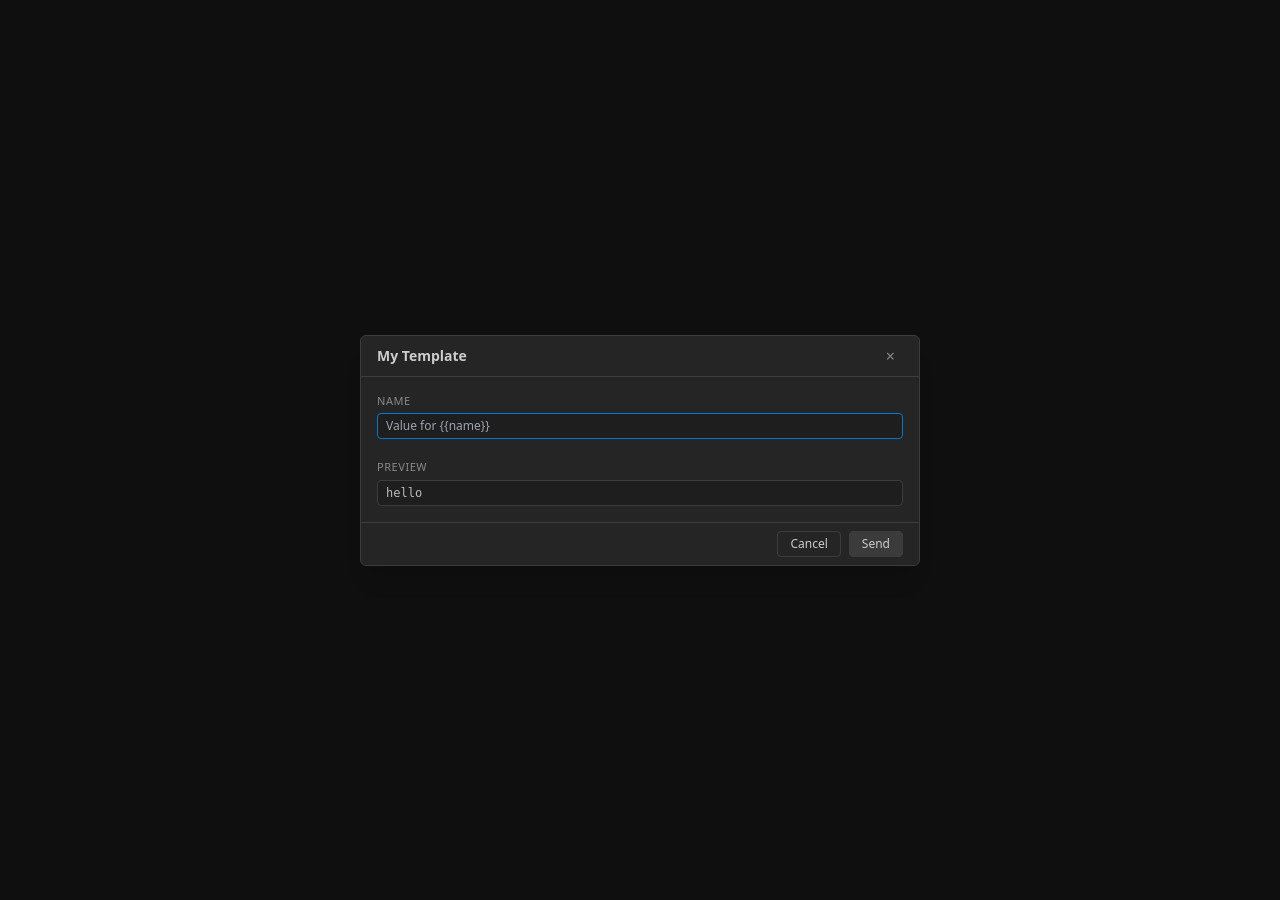
Test case: ShortcutTemplateDialog › updates the preview as the user types
Type "world" into the field with test id "template-input-name".
click(640, 426); type("world")  # box x1=377 y1=413 x2=903 y2=439
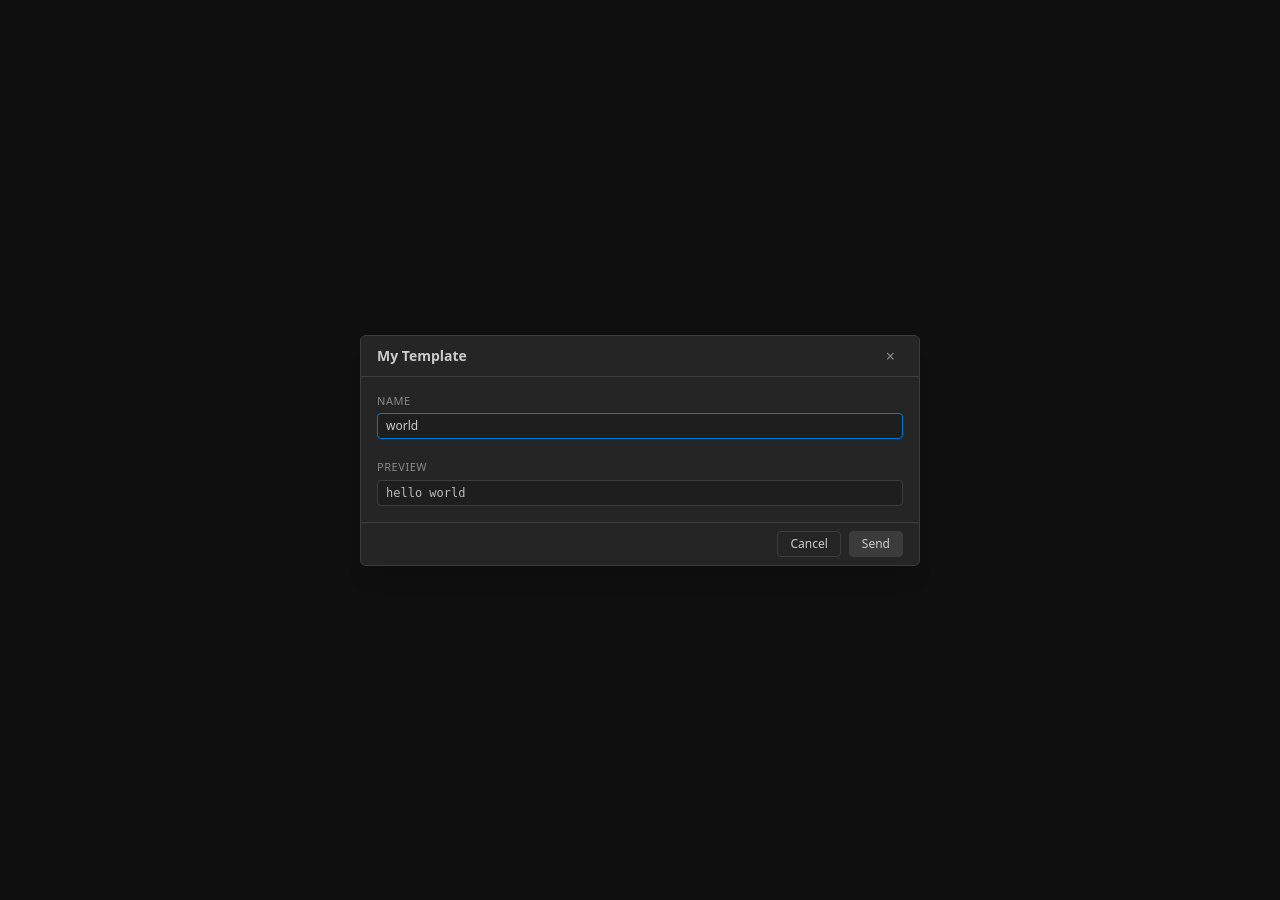
Result: the text with test id "template-preview" reads "hello world" at x1=386 y1=486 x2=466 y2=500
